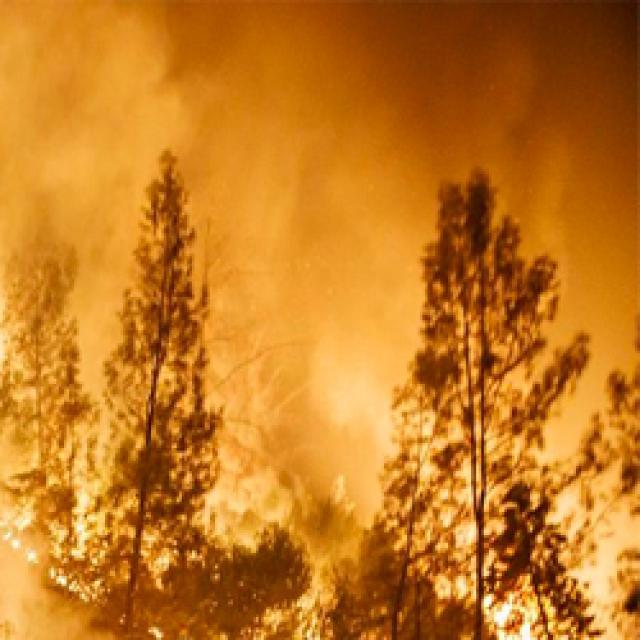Fire: (476, 583, 535, 640), (331, 478, 357, 510)
Smoke: (0, 0, 640, 510), (0, 532, 115, 640)
